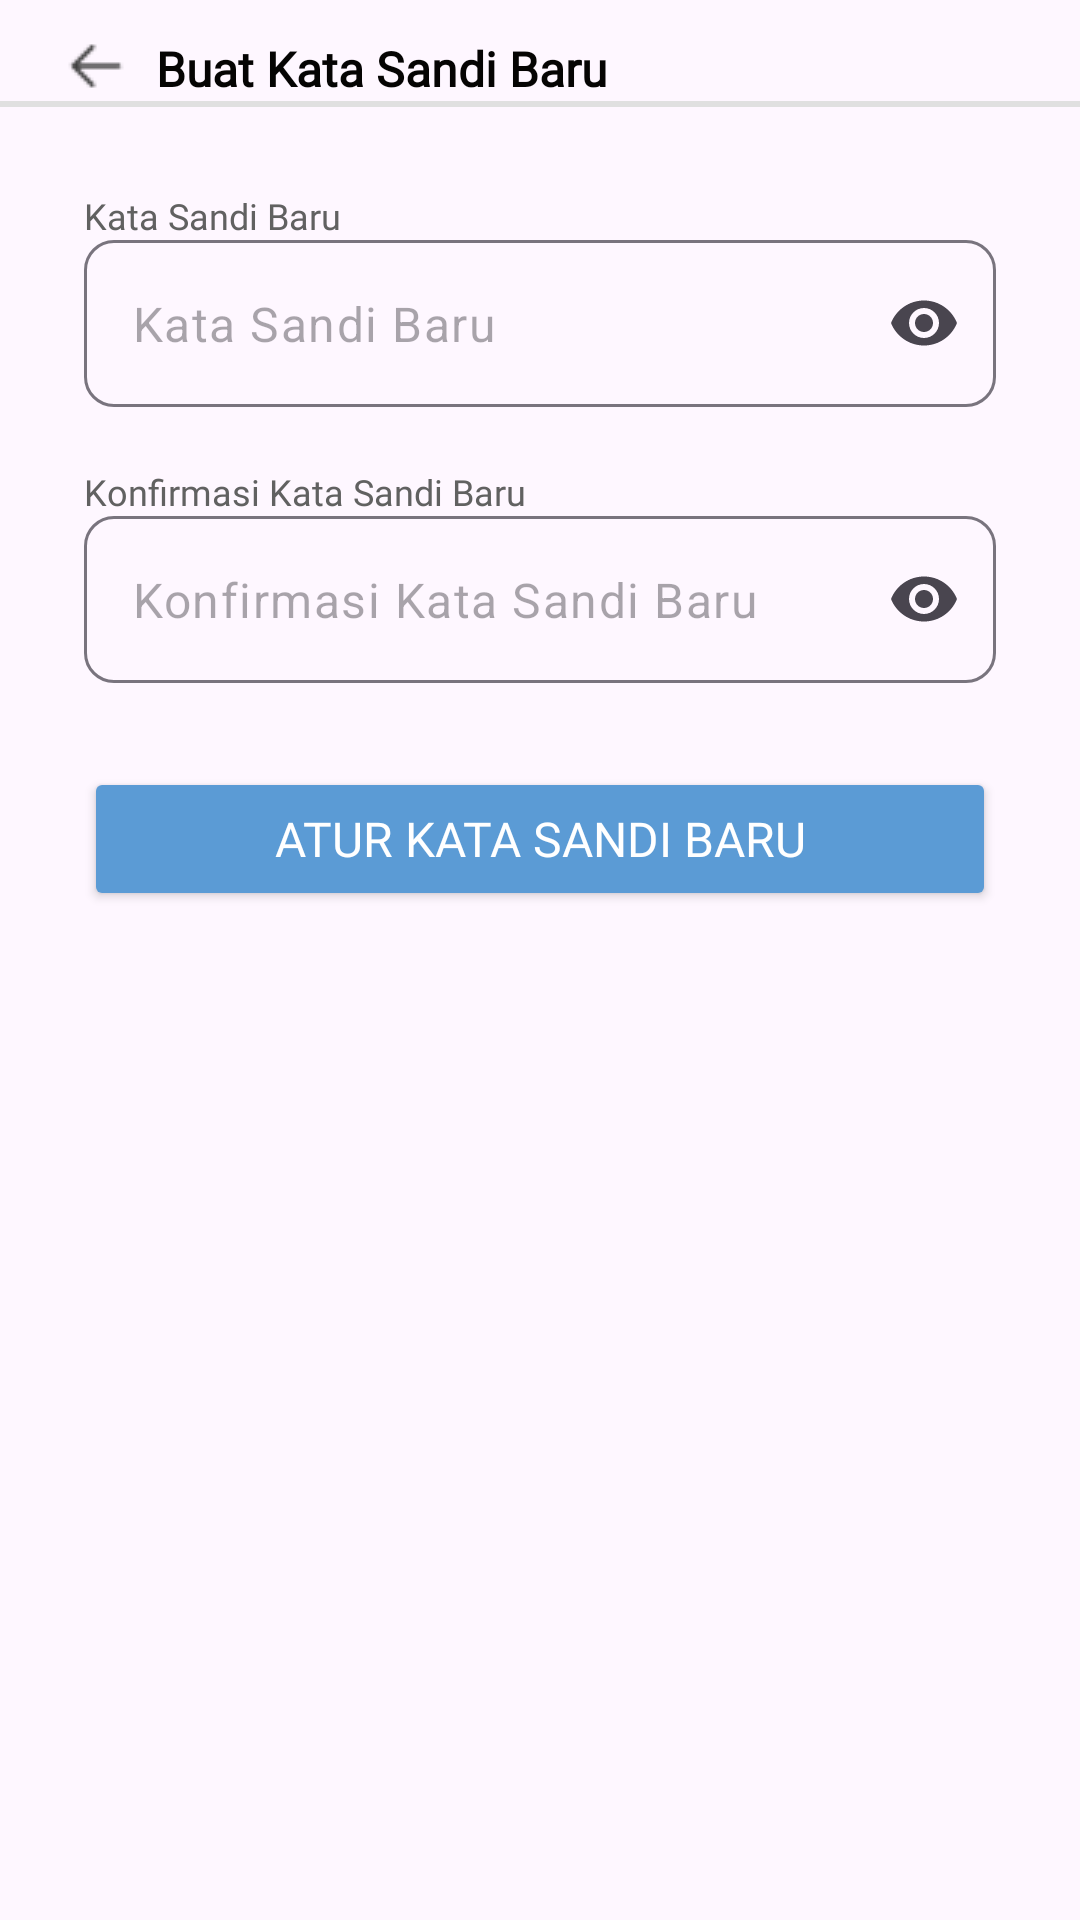

Screen size 1080 × 1920. Icon name, then its box in pixels as (x1, y1, x2, y2):
arrow left: (71, 44, 121, 88)
